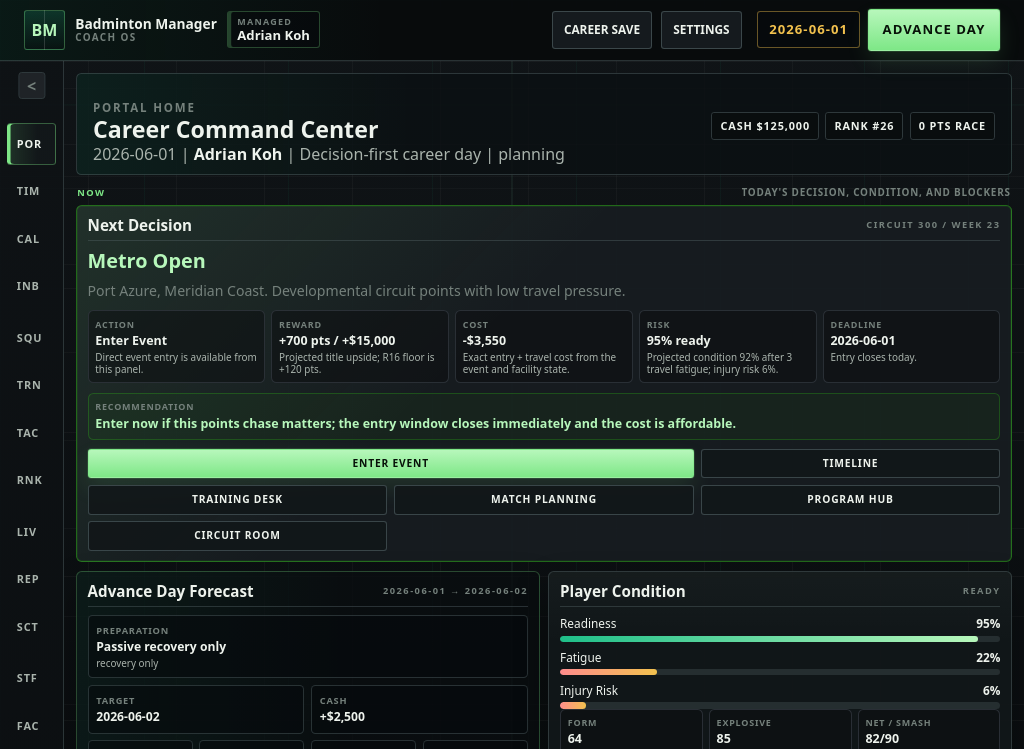
Test: career shell daily action › keeps Timeline-labelled page actions separate from Calendar navigation
What coordinates should you click on to do the following:
click the button named "Rankings"
I would click on:
 (32, 480)
Its box is [7,459,56,501].
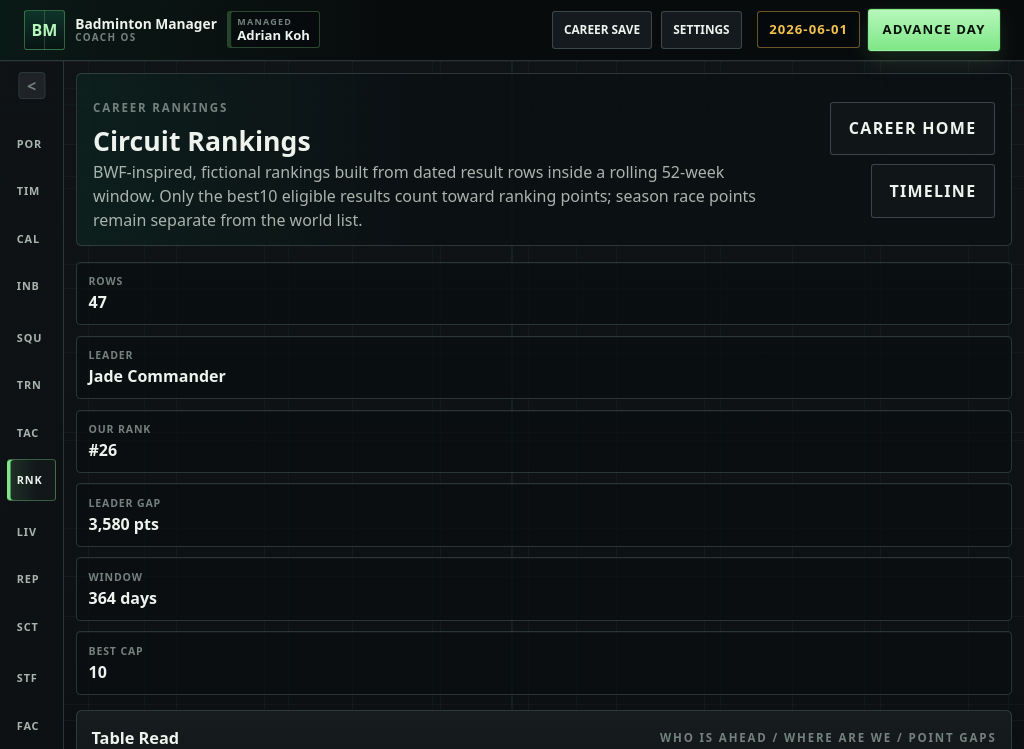
Expected: the heading "Circuit Rankings" is shown, [93,123,311,159]
What coordinates should you click on to do the following:
click the button "Timeline"
I would click on:
 (933, 191)
Its box is [871,164,995,218].
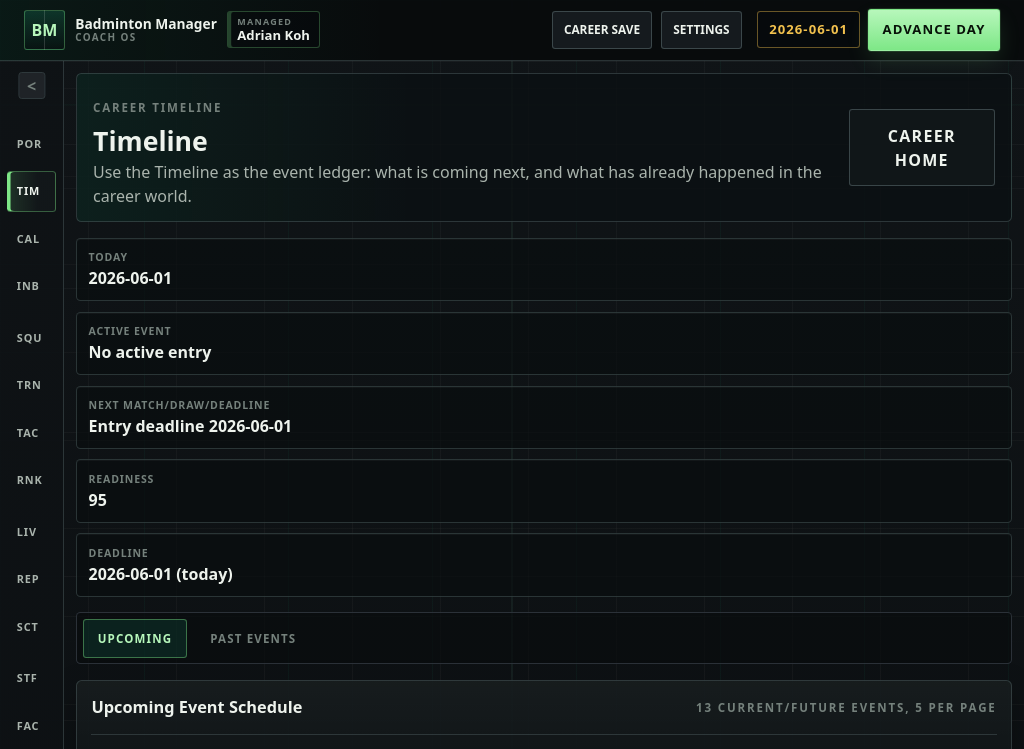
Expected: the heading "Timeline" is shown, [93,123,208,159]
